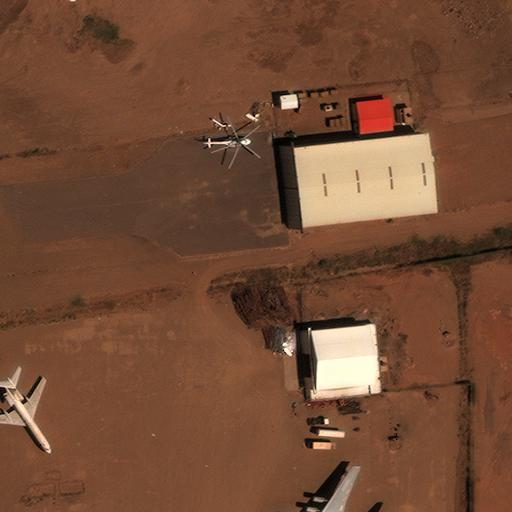Medium Civil Transport: (0, 377, 50, 453)
Military Transport: (282, 466, 389, 512)
